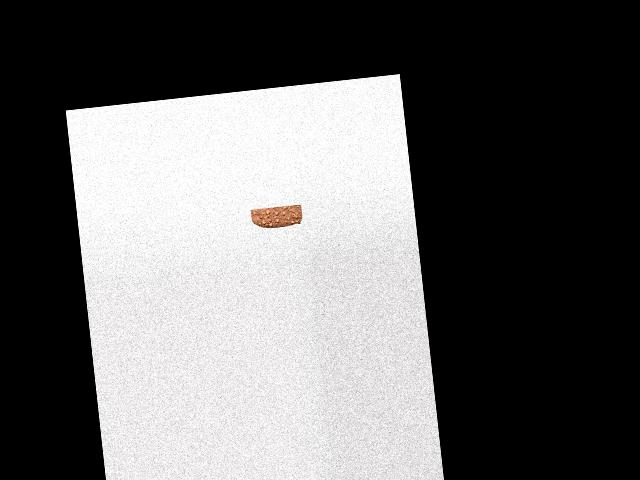chocolate: (250, 202, 303, 233)
